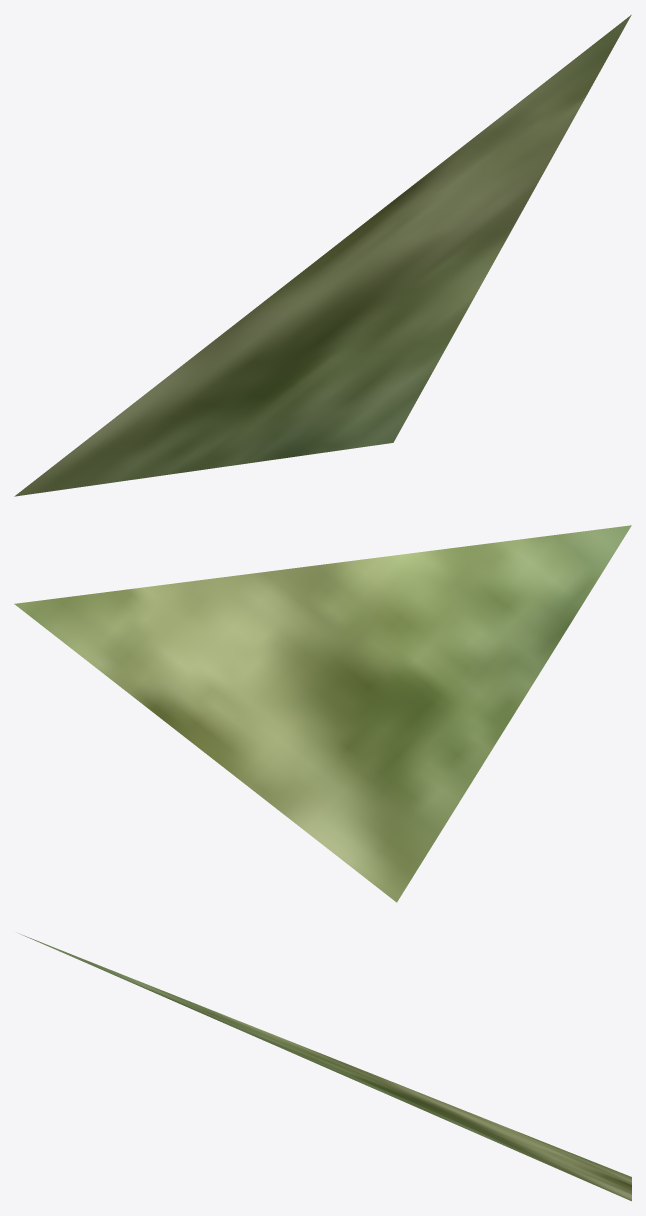
3 views of the same model, one above another, from view 1: azimuth 30°, elevation 25°; view 2: azimuth 150°, elevation 25°; view 3: azimuth 270°, elevation 25° (orthographic). The views are drawn at different scales.
Size of the model in its own units: 0.3514 by 0.1802 by 0.3738.
1 material, 1 textured.
